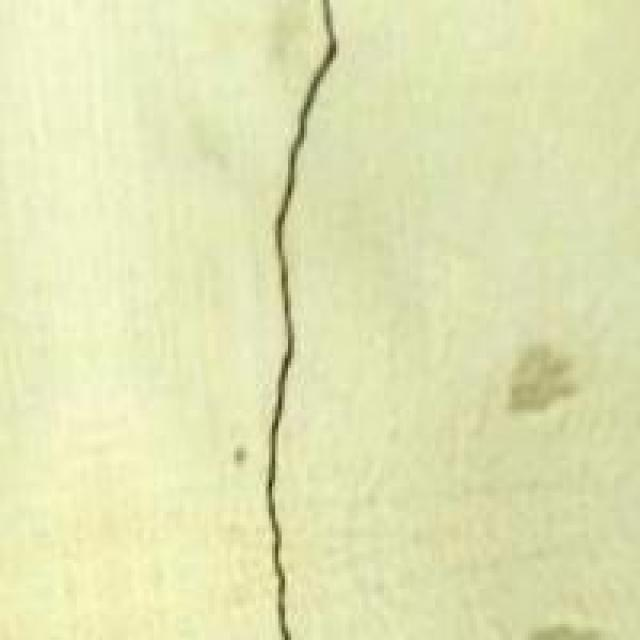crack: (202, 0, 394, 637)
